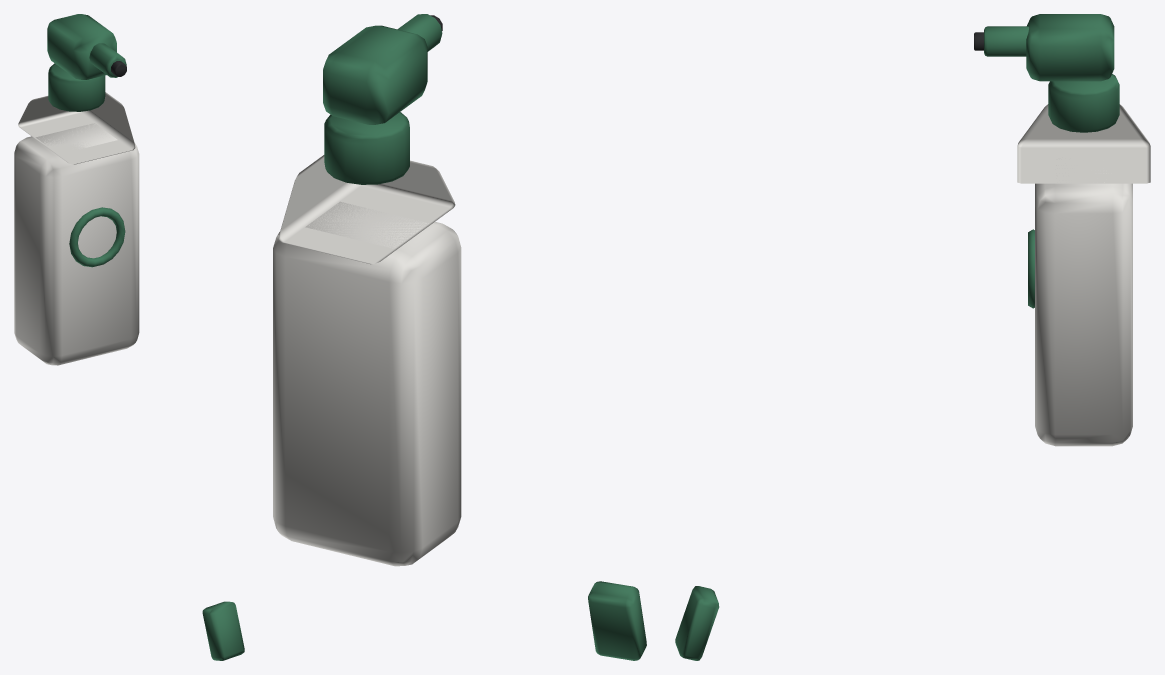
The model's file is asset_076_cleaning_spray_bottle_fp.glb.
3 views of the same model, side by side, from view 1: azimuth 30°, elevation 25°; view 2: azimuth 150°, elevation 25°; view 3: azimuth 270°, elevation 25° (orthographic). The views are drawn at different scales.
Visible parts, largest first — view 1: MESH_SprayBody, MESH_SprayShoulder, MESH_SprayHead, MESH_SprayCollar, MESH_SprayTriggerBlade, MESH_SprayBrandRing, MESH_SprayNozzle; view 2: MESH_SprayBody, MESH_SprayShoulder, MESH_SprayHead, MESH_SprayCollar, MESH_SprayTriggerBlade, MESH_SprayNozzle; view 3: MESH_SprayBody, MESH_SprayShoulder, MESH_SprayHead, MESH_SprayCollar, MESH_SprayTriggerBlade, MESH_SprayNozzle.
Boxes of the visible parts, x1=… form: MESH_SprayBody: x1=14, y1=123, x2=139, y2=365; MESH_SprayShoulder: x1=18, y1=92, x2=135, y2=164; MESH_SprayHead: x1=47, y1=14, x2=116, y2=79; MESH_SprayCollar: x1=48, y1=63, x2=105, y2=111; MESH_SprayTriggerBlade: x1=202, y1=601, x2=244, y2=660; MESH_SprayBrandRing: x1=69, y1=207, x2=125, y2=267; MESH_SprayNozzle: x1=89, y1=43, x2=126, y2=77; MESH_SprayBody: x1=273, y1=201, x2=461, y2=566; MESH_SprayShoulder: x1=279, y1=155, x2=455, y2=264; MESH_SprayHead: x1=323, y1=25, x2=427, y2=124; MESH_SprayCollar: x1=324, y1=112, x2=409, y2=184; MESH_SprayTriggerBlade: x1=588, y1=581, x2=646, y2=660; MESH_SprayNozzle: x1=397, y1=14, x2=442, y2=51; MESH_SprayBody: x1=1035, y1=165, x2=1132, y2=446; MESH_SprayShoulder: x1=1017, y1=104, x2=1150, y2=183; MESH_SprayHead: x1=1026, y1=14, x2=1114, y2=81; MESH_SprayCollar: x1=1048, y1=74, x2=1119, y2=132; MESH_SprayTriggerBlade: x1=675, y1=586, x2=719, y2=660; MESH_SprayNozzle: x1=984, y1=26, x2=1028, y2=56.
Size of the model in its own units: 0.082 by 0.4162 by 0.2809.
